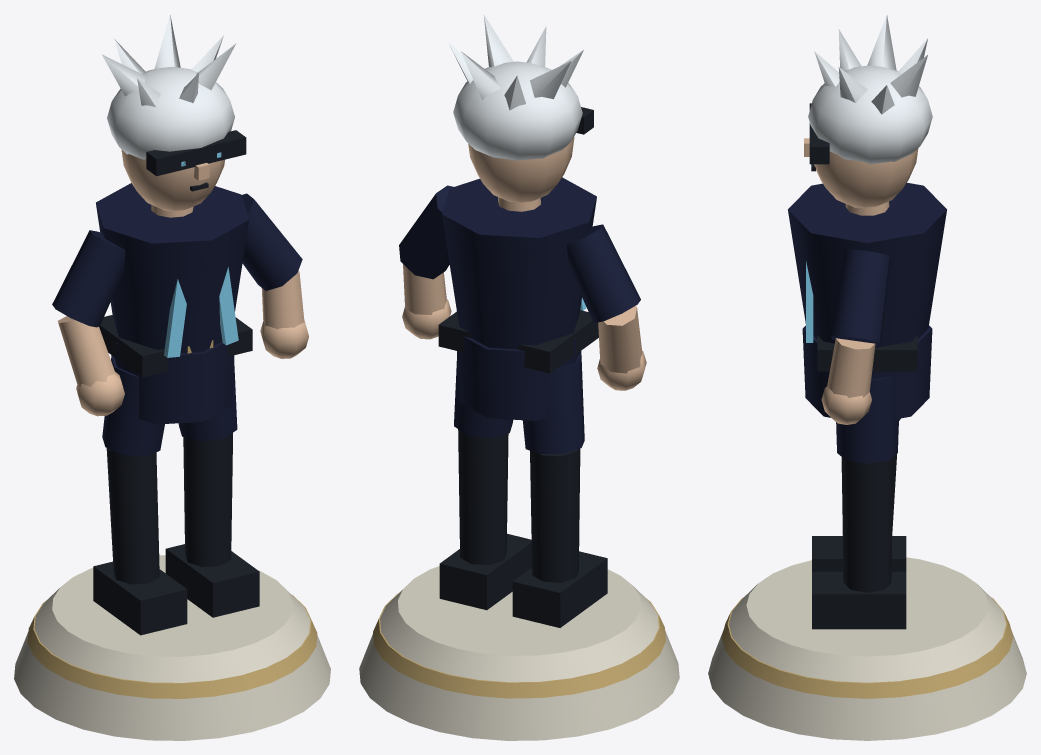
Rendered from gojo.glb.
3 views of the same model, side by side, from view 1: azimuth 30°, elevation 25°; view 2: azimuth 150°, elevation 25°; view 3: azimuth 270°, elevation 25° (orthographic).
Parts seen in each view (by area): view 1: Placeholder Satoru Gojo; view 2: Placeholder Satoru Gojo; view 3: Placeholder Satoru Gojo.
Boxes of the visible parts, x1,y1,x2,y2 form: Placeholder Satoru Gojo: [14, 14, 330, 740]; Placeholder Satoru Gojo: [359, 14, 679, 740]; Placeholder Satoru Gojo: [708, 14, 1026, 740].
Bounding box in the file's own units: 0.54 × 1.18 × 0.54.
